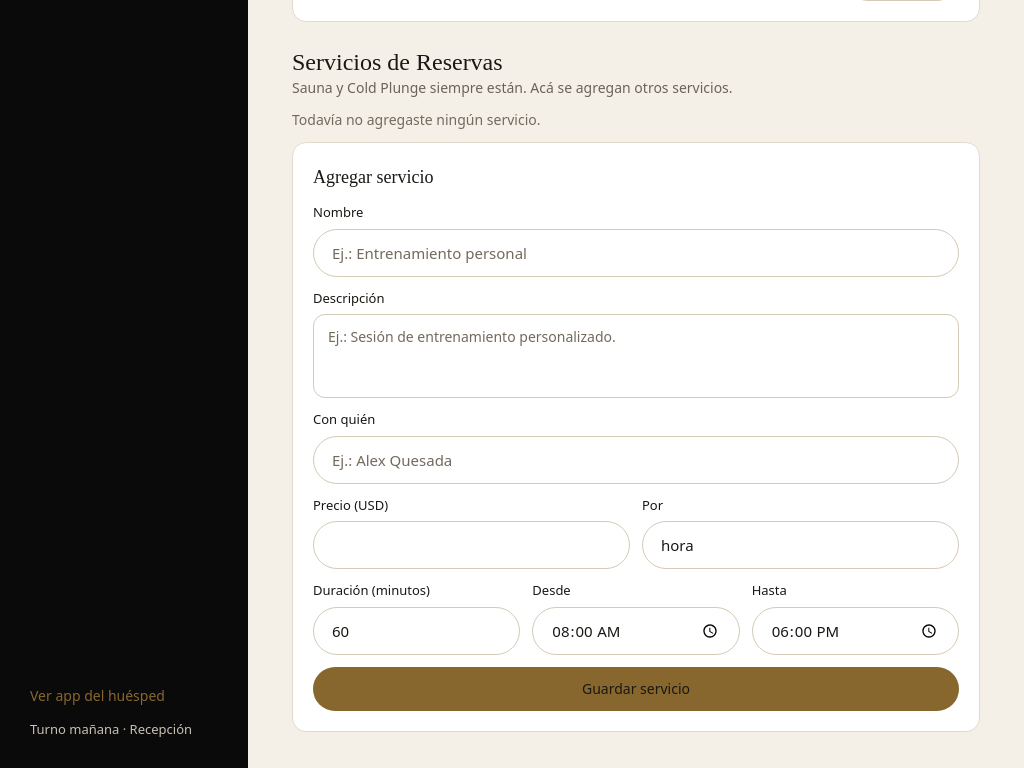
Test: servicios de Reservas › no deja guardar sin nombre
(page scrolled)
Expected: the text "Todavía no agregaste ningún servicio." is shown, [292,110,540,129]
Step 1. Click the button "Guardar servicio" → (636, 689), box [313,667,959,711]
(page scrolled)
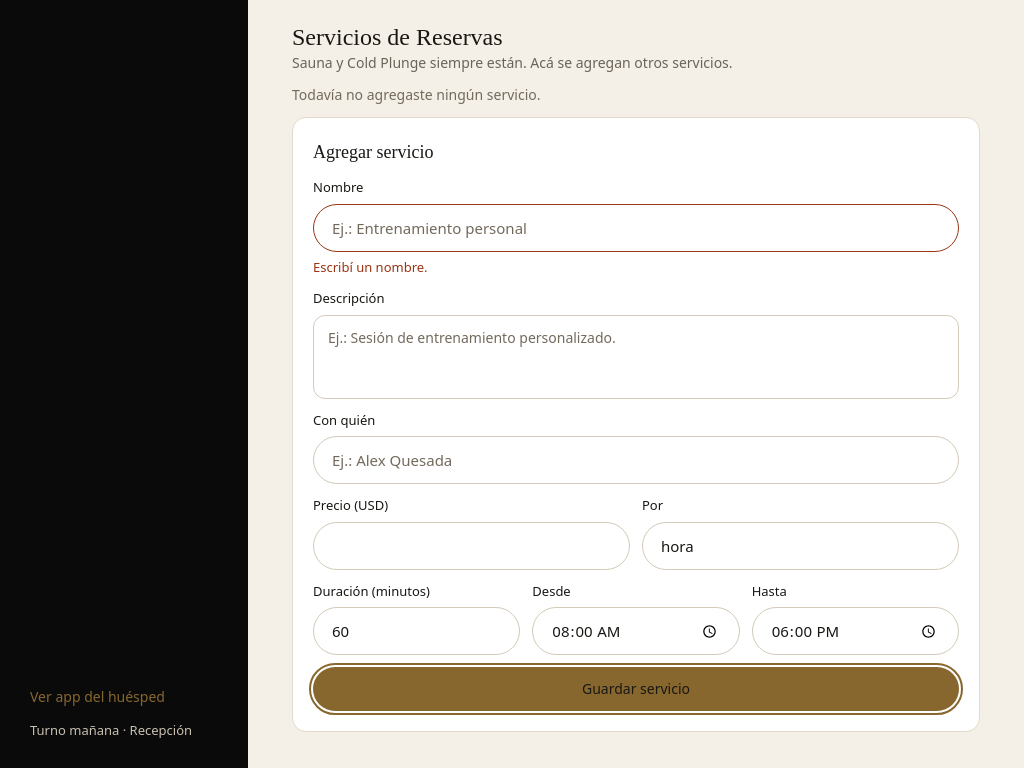
Expected: the text "Escribí un nombre." is shown, [313,258,428,276]
